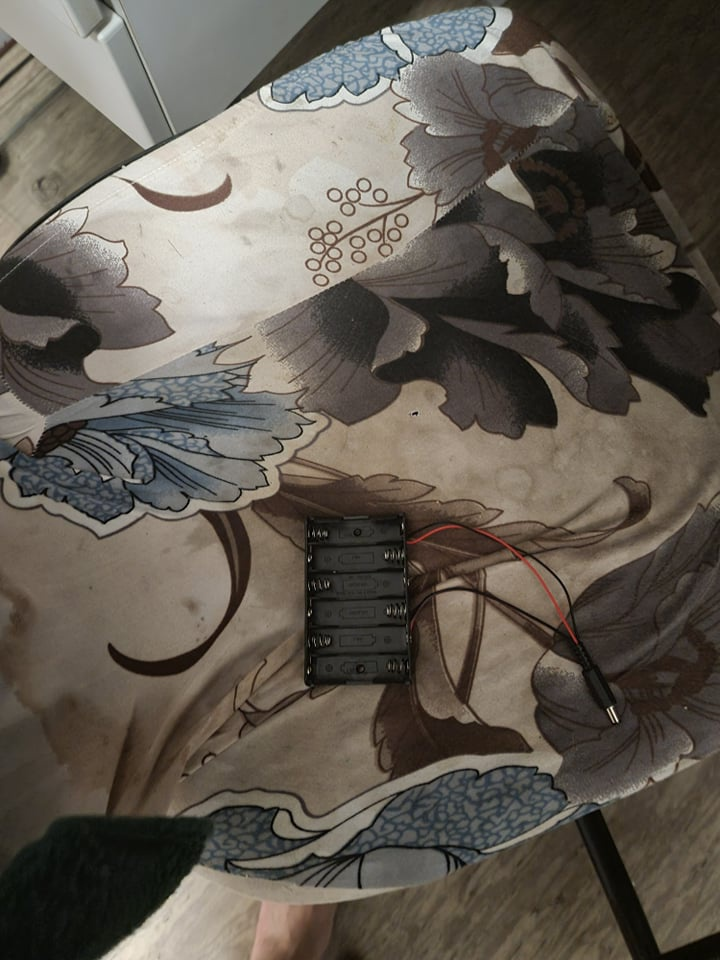BATTERY BOX: (304, 507, 414, 692)
